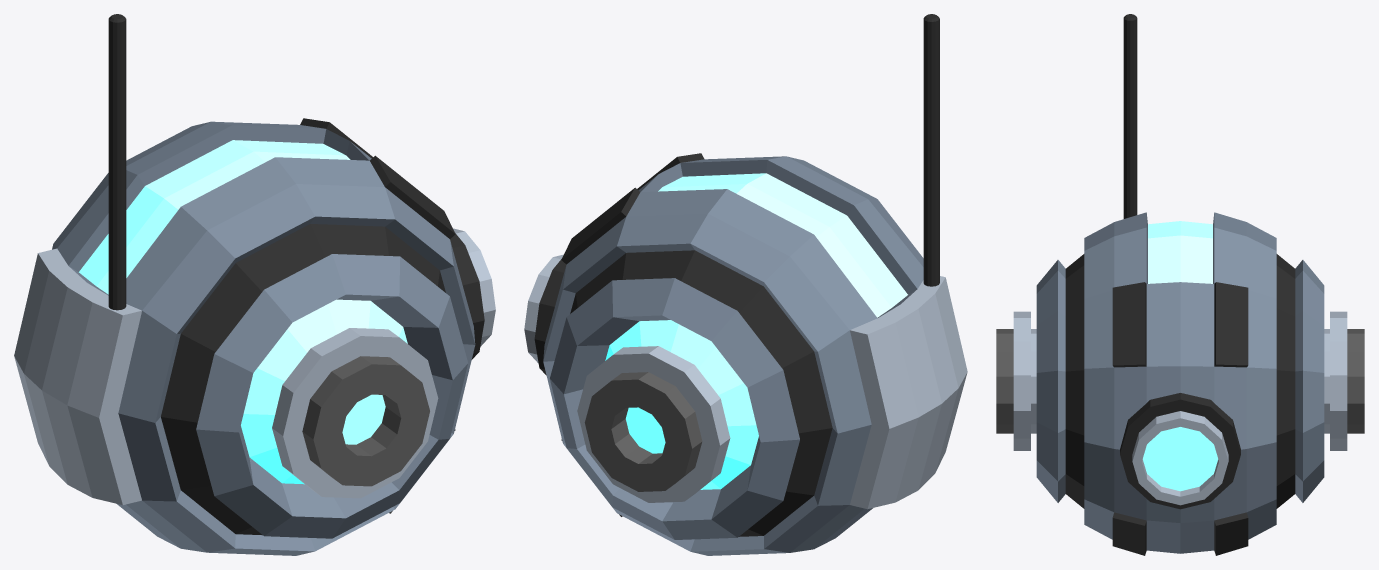
File: Drone.fbx
The picture shows the model from 3 angles, left to right: view 1: azimuth 30°, elevation 25°; view 2: azimuth 150°, elevation 25°; view 3: azimuth 270°, elevation 25°; orthographic projection. The views are drawn at different scales.
Visible parts, largest first — view 1: Cylinder; view 2: Cylinder; view 3: Cylinder.
Part boxes in pixels (bbox=[...]): Cylinder: bbox=[14, 14, 495, 555]; Cylinder: bbox=[524, 14, 967, 555]; Cylinder: bbox=[996, 14, 1364, 555].
Size of the model in its own units: 440 by 584 by 426.
